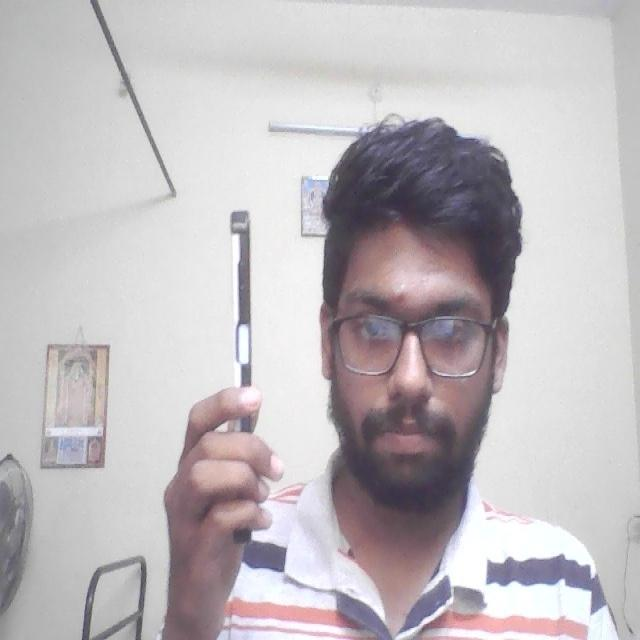Mobile: (217, 197, 271, 391)
